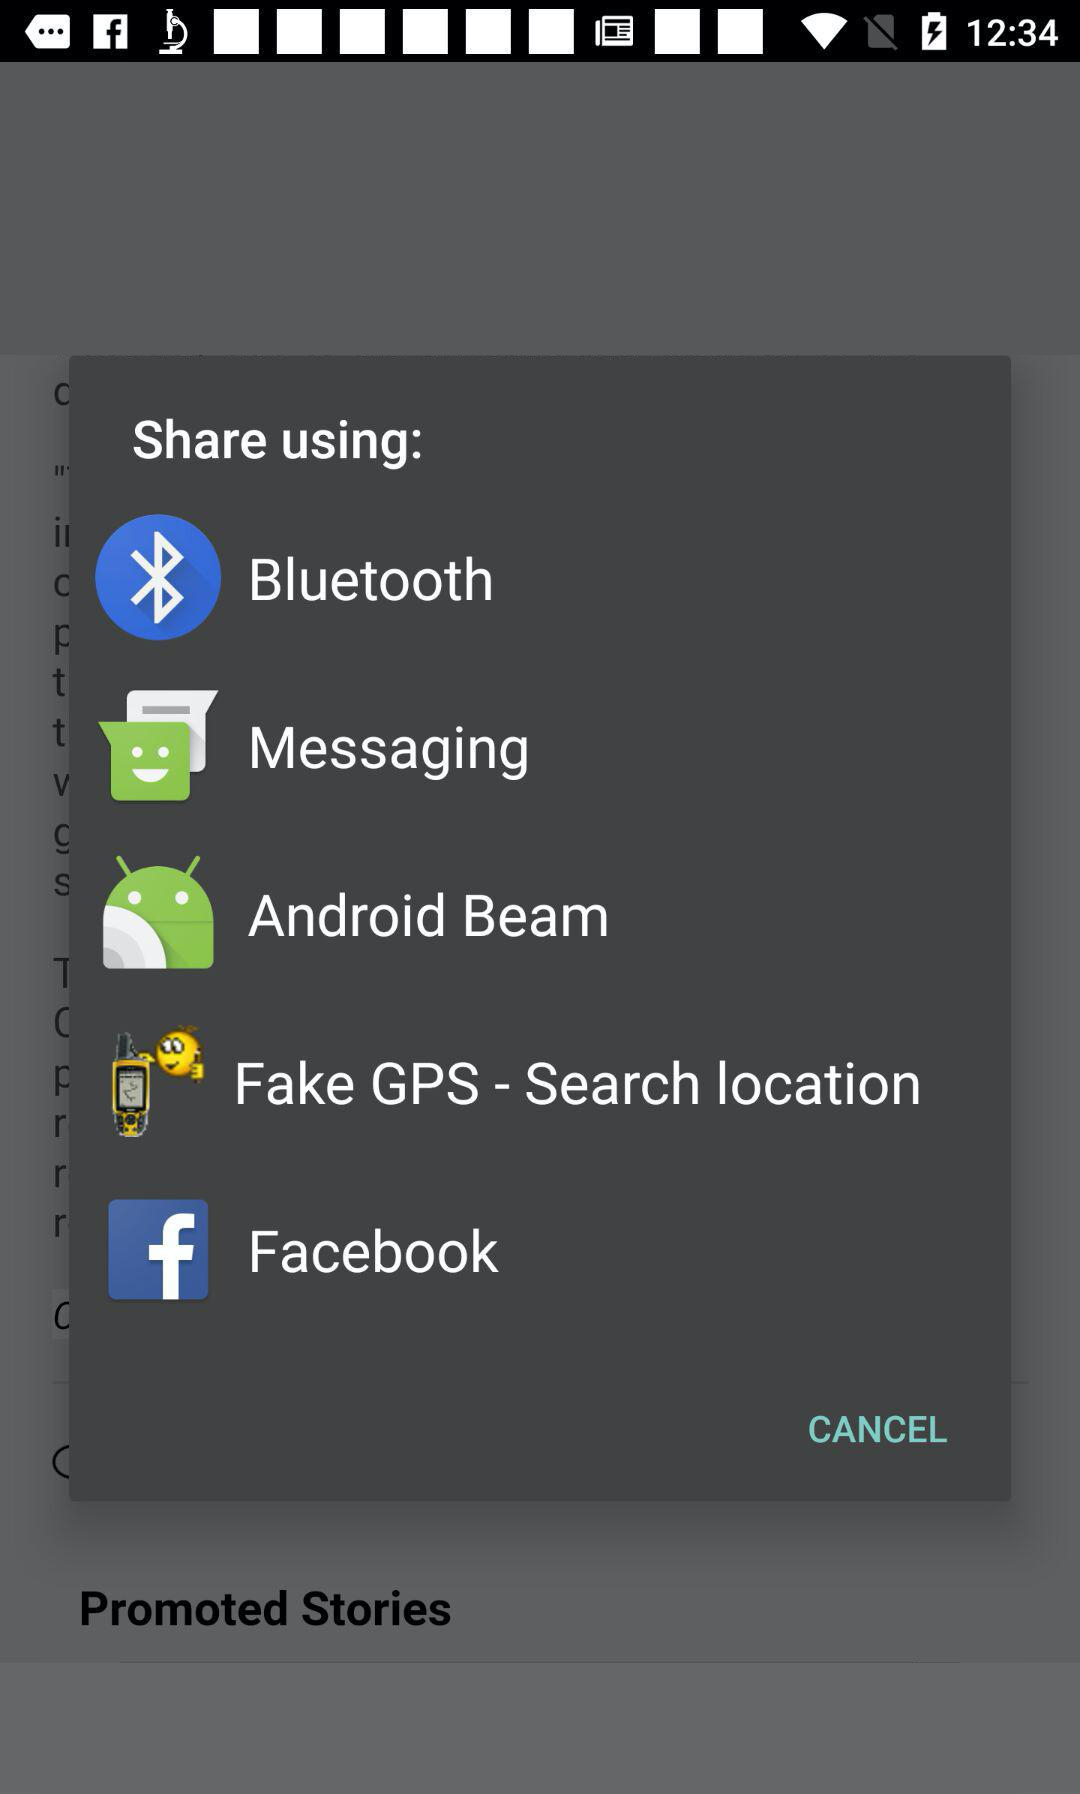Icon: (96, 516, 223, 642), (108, 1199, 210, 1299)
Image: (97, 692, 218, 801), (102, 856, 215, 970), (111, 1024, 206, 1139)
Modal: (70, 358, 1011, 1501)
Text: (238, 1060, 920, 1107), (249, 891, 607, 939), (252, 727, 528, 783), (135, 419, 421, 470), (82, 1589, 452, 1627), (252, 1228, 498, 1275), (252, 557, 493, 602), (810, 1416, 948, 1443)
UpperTaskBar: (1, 1, 1080, 64)
